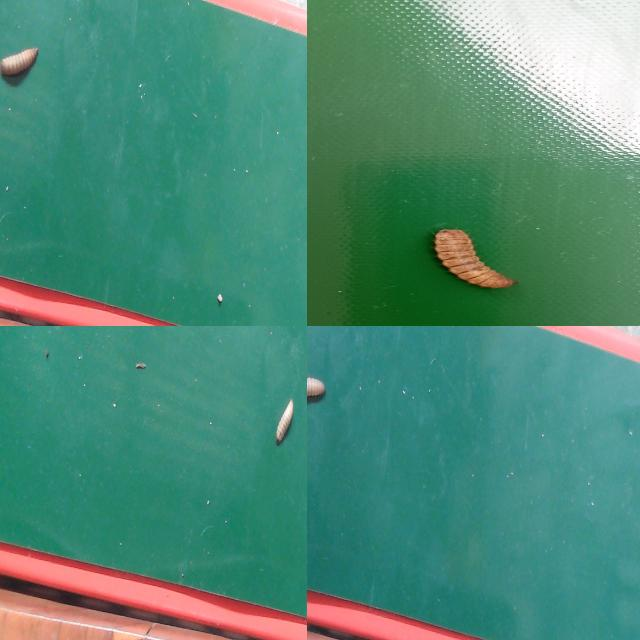Maggot: (430, 230, 515, 292), (0, 47, 40, 86), (272, 397, 298, 447), (307, 376, 328, 408)
